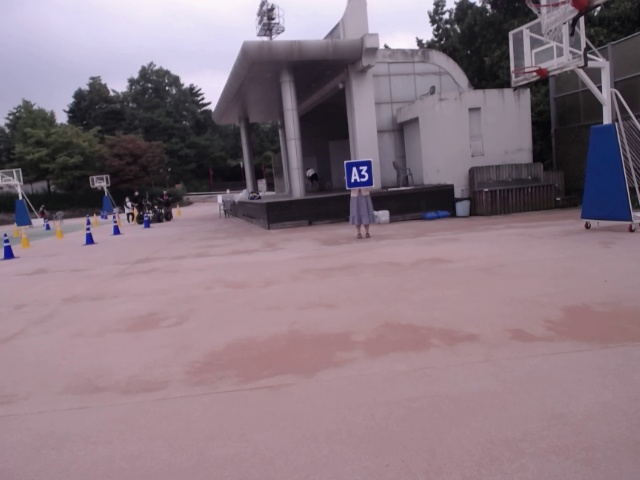delivery_a3: (345, 160, 374, 189)
